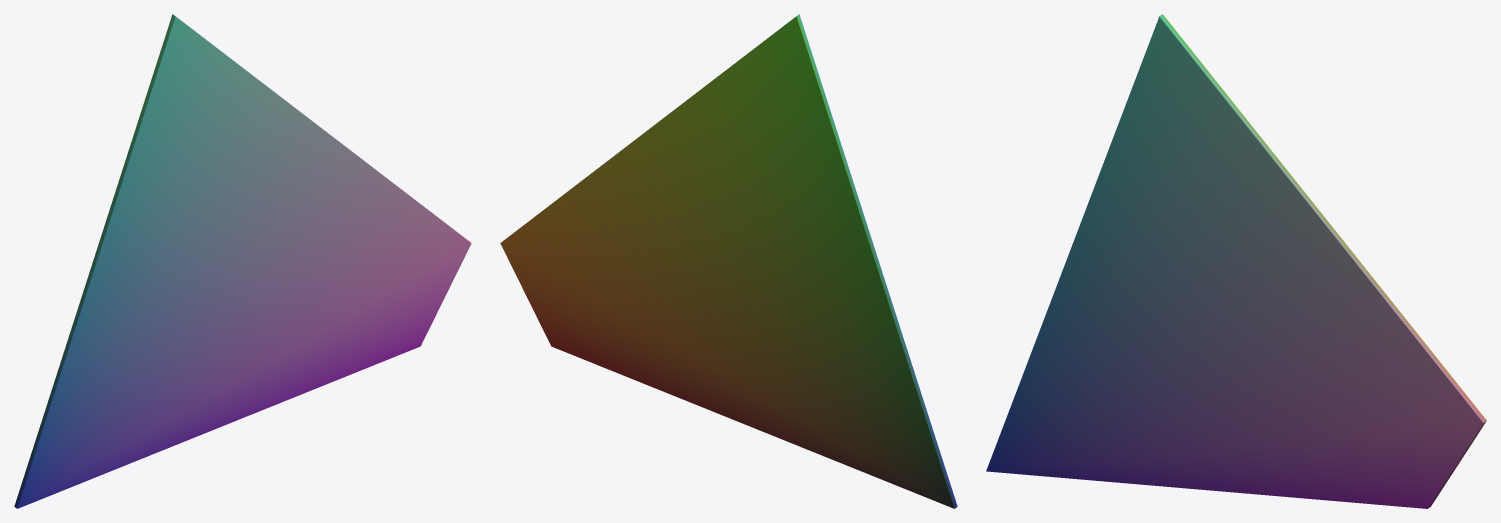
Rendered from zeometry-flat-shapes-flat-shard_v5.glb.
The picture shows the model from 3 angles, left to right: view 1: azimuth 30°, elevation 25°; view 2: azimuth 150°, elevation 25°; view 3: azimuth 330°, elevation 25°; orthographic projection. The views are drawn at different scales.
Parts seen in each view (by area): view 1: Flat Shard_v5; view 2: Flat Shard_v5; view 3: Flat Shard_v5.
Boxes of the visible parts, x1,y1,x2,y2 form: Flat Shard_v5: [14, 14, 471, 508]; Flat Shard_v5: [500, 14, 957, 508]; Flat Shard_v5: [986, 14, 1486, 508].
Size of the model in its own units: 0.5 by 0.4775 by 0.00595.
